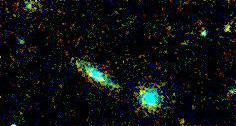star: (167, 106, 197, 126)
